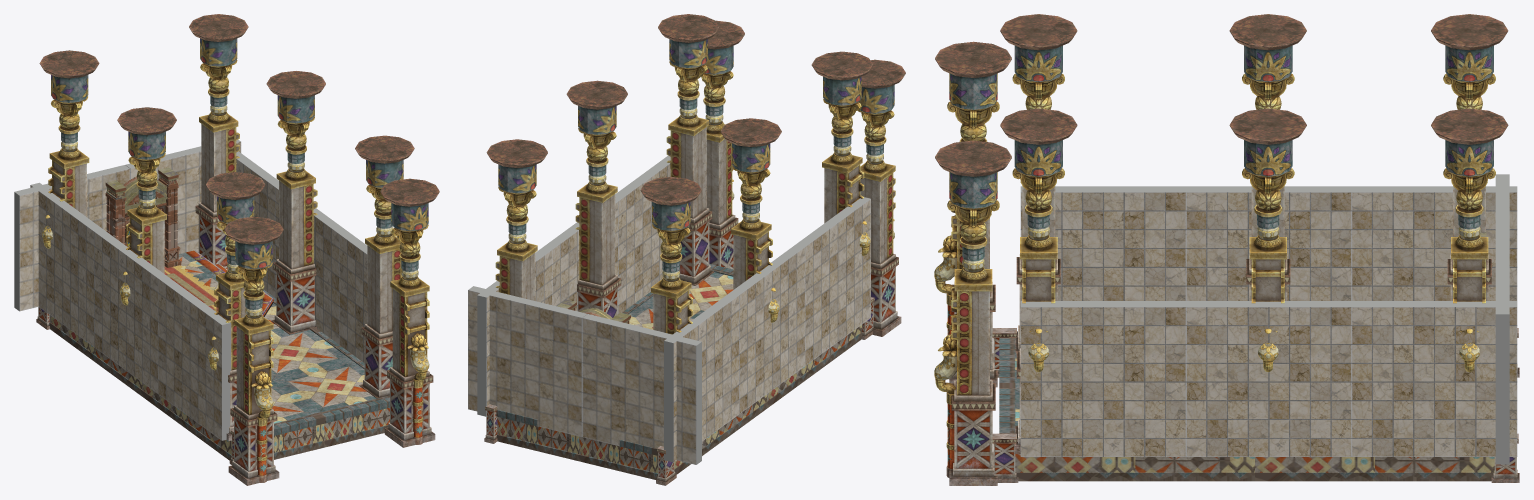
File: Enterance.fbx
3 views of the same model, side by side, from view 1: azimuth 30°, elevation 25°; view 2: azimuth 150°, elevation 25°; view 3: azimuth 270°, elevation 25° (orthographic). The views are drawn at different scales.
Parts seen in each view (by area): view 1: TO14_SM_GRN_Bld_Piller01.mo.002, TO14_SM_GRN_Bld_Piller01.mo.003, TO14_SM_GRN_Bld_Piller01.mo.004, TO14_SM_GRN_Bld_Wall02.mo.001, TO14_SM_GRN_Bld_Wall02.mo.002, TO14_SM_GRN_Bld_Floor01_edge.mo.001, TO14_SM_GRN_Bld_Piller01.mo.007, TO14_SM_GRN_Bld_Piller01.mo.008, TO14_SM_GRN_Bld_Wall02.mo.003, TO14_SM_GRN_Bld_Floor01_600x600.mo, TO14_SM_GRN_Bld_Piller01.mo.005, TO14_SM_GRN_Bld_Piller01.mo.009 (+8 smaller); view 2: TO14_SM_GRN_Bld_Wall02.mo.004, TO14_SM_GRN_Bld_Wall02.mo.005, TO14_SM_GRN_Bld_Floor01_edge.mo.001, TO14_SM_GRN_Bld_Piller01.mo.004, TO14_SM_GRN_Bld_Wall02.mo.002, TO14_SM_GRN_Bld_Wall02.mo.001, TO14_SM_GRN_Bld_Piller01.mo.007, TO14_SM_GRN_Bld_Piller01.mo.002, TO14_SM_GRN_Bld_Wall02.mo.003, TO14_SM_GRN_Bld_Piller01.mo.003, TO14_SM_GRN_Bld_Piller01.mo.006, TO14_SM_GRN_Bld_Piller01.mo.005 (+7 smaller); view 3: TO14_SM_GRN_Bld_Wall02.mo.007, TO14_SM_GRN_Bld_Wall02.mo.008, TO14_SM_GRN_Bld_Wall02.mo.006, TO14_SM_GRN_Bld_Floor01_edge.mo.001, TO14_SM_GRN_Bld_Piller01.mo.003, TO14_SM_GRN_Bld_Wall02.mo.001, TO14_SM_GRN_Bld_Wall02.mo.002, TO14_SM_GRN_Bld_Wall02.mo.003, TO14_SM_GRN_Bld_Piller01.mo.007, TO14_SM_GRN_Bld_Piller01.mo.004, TO14_SM_GRN_Bld_Piller01.mo.008, TO14_SM_GRN_Bld_Piller01.mo.002 (+5 smaller).
Part boxes in pixels (x1,y1,x2,y2): TO14_SM_GRN_Bld_Piller01.mo.002: [224, 216, 283, 485]; TO14_SM_GRN_Bld_Piller01.mo.003: [380, 178, 439, 447]; TO14_SM_GRN_Bld_Piller01.mo.004: [266, 71, 325, 334]; TO14_SM_GRN_Bld_Wall02.mo.001: [158, 276, 231, 440]; TO14_SM_GRN_Bld_Wall02.mo.002: [94, 229, 166, 393]; TO14_SM_GRN_Bld_Floor01_edge.mo.001: [36, 290, 389, 464]; TO14_SM_GRN_Bld_Piller01.mo.007: [355, 135, 414, 398]; TO14_SM_GRN_Bld_Piller01.mo.008: [189, 14, 248, 267]; TO14_SM_GRN_Bld_Wall02.mo.003: [30, 182, 102, 346]; TO14_SM_GRN_Bld_Floor01_600x600.mo: [271, 330, 376, 423]; TO14_SM_GRN_Bld_Piller01.mo.005: [117, 107, 176, 305]; TO14_SM_GRN_Bld_Piller01.mo.009: [39, 50, 99, 248]; TO14_SM_GRN_Bld_Wall02.mo.004: [582, 314, 701, 464]; TO14_SM_GRN_Bld_Wall02.mo.005: [468, 286, 587, 436]; TO14_SM_GRN_Bld_Floor01_edge.mo.001: [484, 264, 874, 485]; TO14_SM_GRN_Bld_Piller01.mo.004: [566, 80, 627, 317]; TO14_SM_GRN_Bld_Wall02.mo.002: [730, 244, 804, 413]; TO14_SM_GRN_Bld_Wall02.mo.001: [796, 197, 870, 365]; TO14_SM_GRN_Bld_Piller01.mo.007: [658, 14, 719, 285]; TO14_SM_GRN_Bld_Piller01.mo.002: [857, 59, 905, 336]; TO14_SM_GRN_Bld_Wall02.mo.003: [664, 293, 739, 462]; TO14_SM_GRN_Bld_Piller01.mo.003: [701, 20, 744, 269]; TO14_SM_GRN_Bld_Piller01.mo.006: [811, 51, 872, 255]; TO14_SM_GRN_Bld_Piller01.mo.005: [720, 118, 781, 322]; TO14_SM_GRN_Bld_Wall02.mo.007: [1186, 301, 1351, 456]; TO14_SM_GRN_Bld_Wall02.mo.008: [1020, 301, 1185, 456]; TO14_SM_GRN_Bld_Wall02.mo.006: [1351, 301, 1517, 456]; TO14_SM_GRN_Bld_Floor01_edge.mo.001: [992, 328, 1519, 482]; TO14_SM_GRN_Bld_Piller01.mo.003: [934, 140, 1011, 485]; TO14_SM_GRN_Bld_Wall02.mo.001: [1020, 186, 1186, 300]; TO14_SM_GRN_Bld_Wall02.mo.002: [1186, 186, 1351, 300]; TO14_SM_GRN_Bld_Wall02.mo.003: [1351, 186, 1517, 300]; TO14_SM_GRN_Bld_Piller01.mo.007: [1000, 108, 1077, 453]; TO14_SM_GRN_Bld_Piller01.mo.004: [1229, 108, 1306, 372]; TO14_SM_GRN_Bld_Piller01.mo.008: [1431, 108, 1508, 372]; TO14_SM_GRN_Bld_Piller01.mo.002: [934, 41, 1011, 387].
Size of the model in its own units: 2918 by 3405 by 5148.
